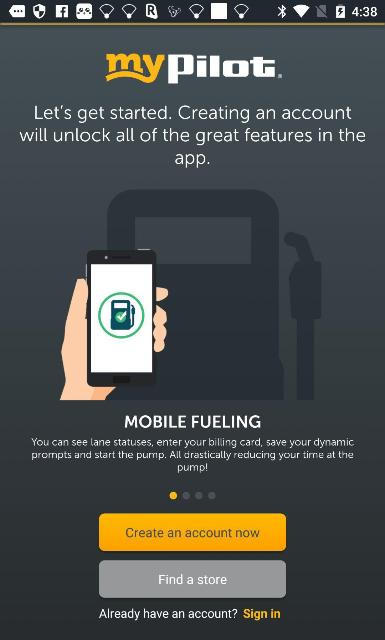Image: (59, 188, 321, 400), (105, 52, 282, 84)
PageIndicator: (168, 491, 216, 499)
Text: (19, 104, 365, 168), (31, 438, 354, 472), (125, 414, 261, 428), (98, 608, 237, 620), (126, 528, 260, 538), (160, 574, 226, 584), (244, 608, 280, 620)
TextButton: (98, 560, 286, 598), (99, 514, 287, 550)
UpperTaskBar: (0, 0, 384, 22)
